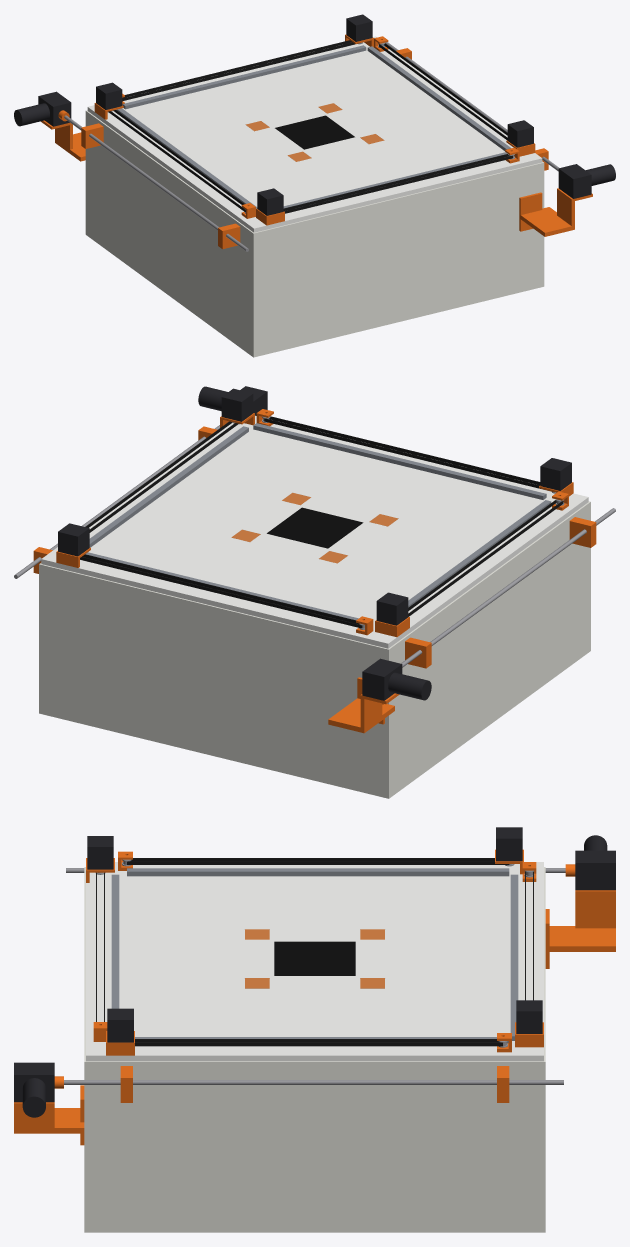
The model's file is dock_body.glb.
3 renders of one model, top to bottom at view 1: azimuth 30°, elevation 25°; view 2: azimuth 150°, elevation 25°; view 3: azimuth 270°, elevation 25°, orthographic. The views are drawn at different scales.
Visible parts, largest first — view 1: dock_panels, dock_deck, dock_motor_bracket_R, dockREF_rail_x+1, dockREF_marker, dockREF_cover_motor_R, dockREF_cover_motor_L, dockREF_rail_y+1, dock_shaft_L, dockREF_rail_y-1, dock_motor_bracket_L, dockBELT_x+1_0 (+12 smaller); view 2: dock_panels, dock_deck, dockREF_rail_x-1, dockREF_marker, dockREF_cover_motor_L, dock_motor_bracket_L, dockREF_rail_y+1, dock_shaft_L, dockBELT_x+1_1, dockBELT_x-1_1, dockBELT_x+1_0, dockREF_rail_y-1 (+14 smaller); view 3: dock_panels, dock_deck, dock_motor_bracket_L, dockREF_rail_y-1, dockREF_marker, dock_shaft_R, dockREF_cover_motor_R, dockREF_cover_motor_L, dock_motor_bracket_R, dockBELT_y+1_1, dockBELT_y-1_1, dockBELT_y-1_0 (+8 smaller).
Part boxes in pixels (x1=…): dock_panels: x1=85, y1=110, x2=544, y2=357; dock_deck: x1=87, y1=36, x2=542, y2=232; dock_motor_bracket_R: x1=519, y1=188, x2=592, y2=236; dockREF_rail_x+1: x1=122, y1=45, x2=366, y2=109; dockREF_marker: x1=275, y1=115, x2=354, y2=149; dockREF_cover_motor_R: x1=558, y1=164, x2=615, y2=198; dockREF_cover_motor_L: x1=14, y1=91, x2=71, y2=126; dockREF_rail_y+1: x1=367, y1=46, x2=510, y2=150; dock_shaft_L: x1=64, y1=115, x2=248, y2=251; dockREF_rail_y-1: x1=116, y1=108, x2=257, y2=208; dock_motor_bracket_L: x1=41, y1=120, x2=85, y2=161; dockBELT_x+1_0: x1=122, y1=42, x2=360, y2=101; dock_panels: x1=39, y1=501, x2=590, y2=798; dock_deck: x1=41, y1=415, x2=588, y2=648; dockREF_rail_x-1: x1=253, y1=423, x2=546, y2=499; dockREF_marker: x1=267, y1=507, x2=363, y2=548; dockREF_cover_motor_L: x1=362, y1=658, x2=431, y2=700; dock_motor_bracket_L: x1=328, y1=677, x2=399, y2=733; dockREF_rail_y+1: x1=89, y1=426, x2=248, y2=547; dock_shaft_L: x1=401, y1=508, x2=615, y2=667; dockBELT_x+1_1: x1=80, y1=557, x2=362, y2=628; dockBELT_x-1_1: x1=264, y1=418, x2=552, y2=491; dockBELT_x+1_0: x1=82, y1=554, x2=359, y2=624; dockREF_rail_y-1: x1=408, y1=500, x2=551, y2=607; dock_panels: x1=84, y1=867, x2=545, y2=1232; dock_deck: x1=86, y1=862, x2=543, y2=1061; dock_motor_bracket_L: x1=545, y1=890, x2=615, y2=968; dockREF_rail_y-1: x1=127, y1=868, x2=509, y2=876; dockREF_marker: x1=274, y1=941, x2=355, y2=975; dock_shaft_R: x1=64, y1=1080, x2=563, y2=1084; dockREF_cover_motor_R: x1=14, y1=1062, x2=54, y2=1117; dockREF_cover_motor_L: x1=575, y1=835, x2=615, y2=890; dock_motor_bracket_R: x1=14, y1=1085, x2=84, y2=1145; dockBELT_y+1_1: x1=135, y1=1042, x2=502, y2=1046; dockBELT_y-1_1: x1=127, y1=861, x2=509, y2=864; dockBELT_y-1_0: x1=130, y1=858, x2=494, y2=861.
Size of the model in its own units: 986 by 372 by 960.
